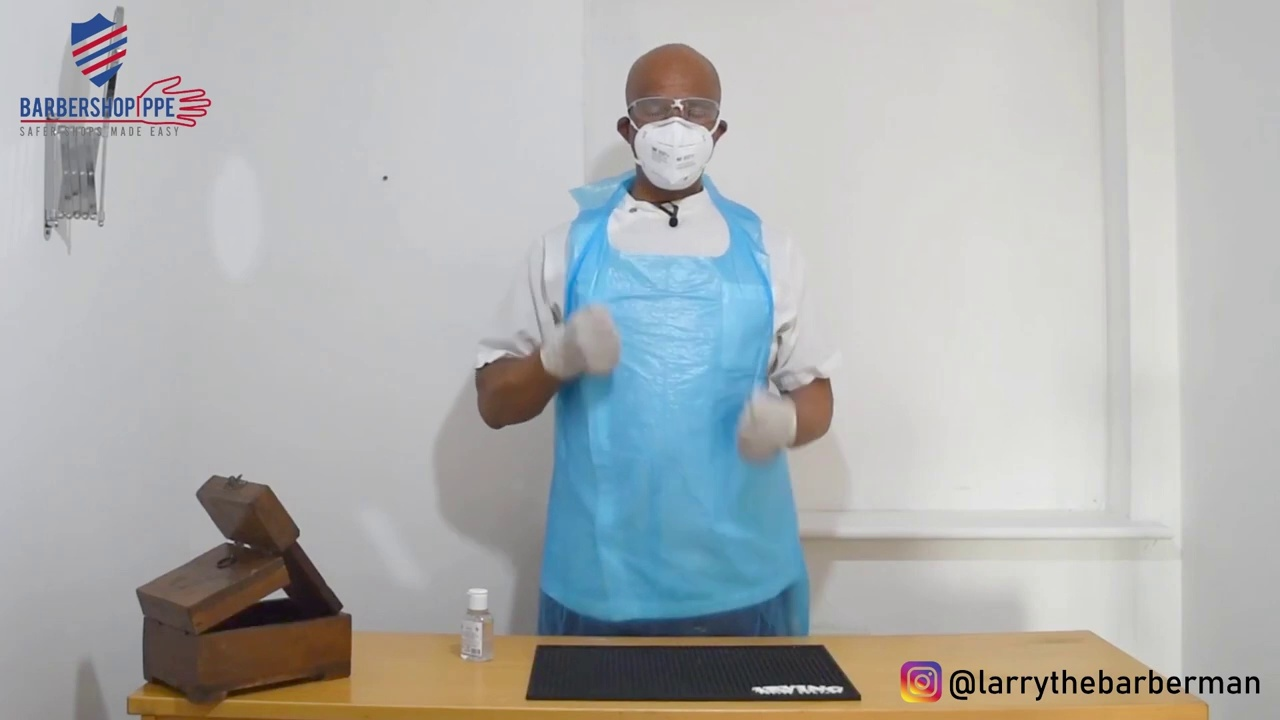Apron: (561, 170, 783, 641)
Glove: (725, 381, 813, 471), (543, 297, 624, 386)
Mask: (612, 119, 721, 190)
No_Hairnet: (609, 40, 719, 96)
